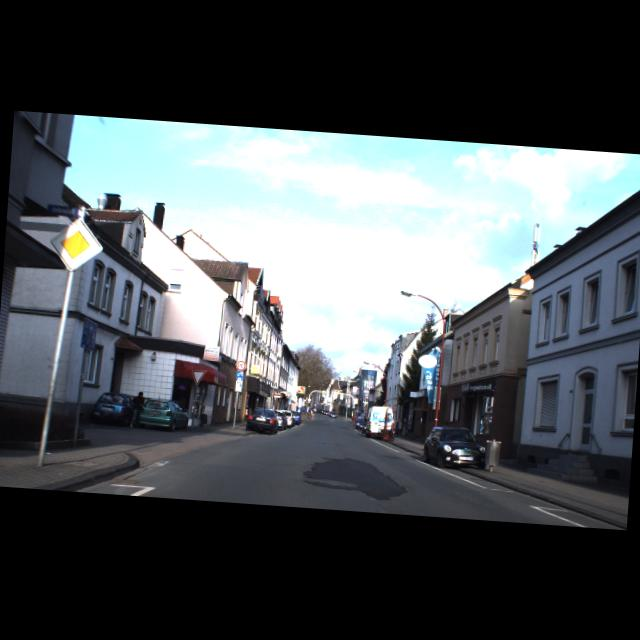other: (48, 215, 106, 273), (190, 369, 207, 386)
prohibitory: (234, 359, 247, 372)
